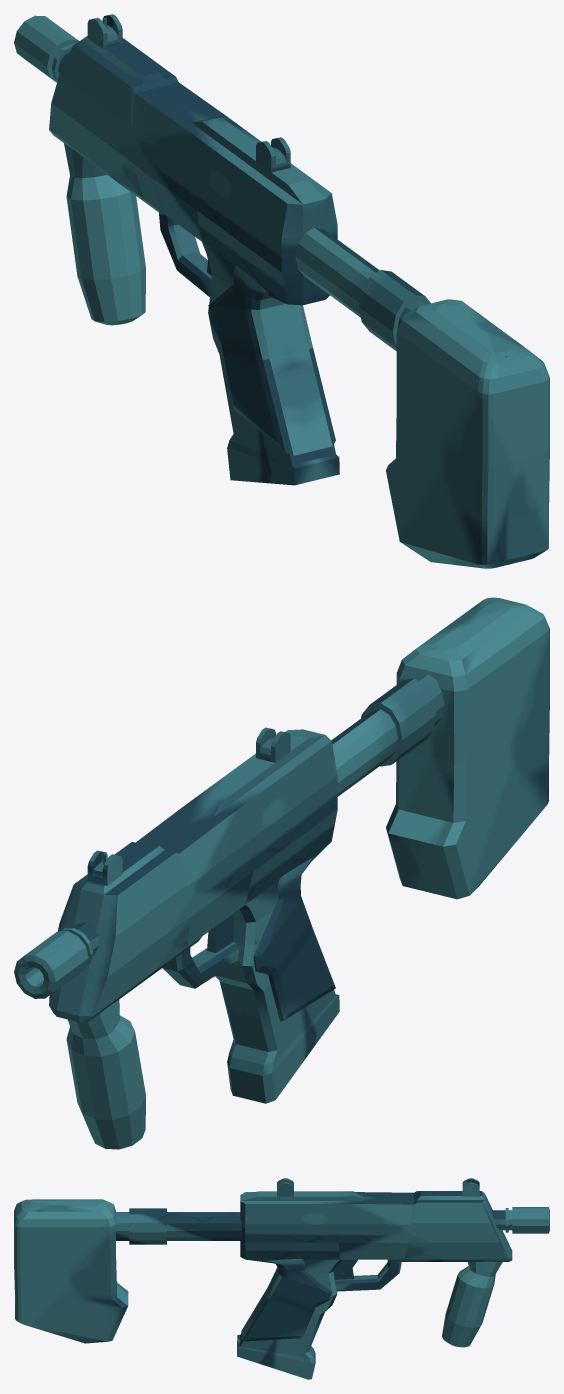
The model's file is smg_01.gltf.
3 renders of one model, top to bottom at view 1: azimuth 30°, elevation 25°; view 2: azimuth 150°, elevation 25°; view 3: azimuth 270°, elevation 25°, orthographic. The views are drawn at different scales.
Parts seen in each view (by area): view 1: GunBody, Stock, Grip, Barrel; view 2: GunBody, Stock, Grip, Barrel, Trigger; view 3: GunBody, Stock, Grip, Barrel, Trigger.
Part boxes in pixels (<box>): GunBody: <box>49,14,339,485</box>; Stock: <box>295,227,549,568</box>; Grip: <box>64,143,145,325</box>; Barrel: <box>14,15,78,82</box>; GunBody: <box>49,727,339,1103</box>; Stock: <box>331,597,549,899</box>; Grip: <box>66,1000,145,1149</box>; Barrel: <box>14,923,98,998</box>; Trigger: <box>207,915,234,952</box>; GunBody: <box>237,1178,512,1379</box>; Stock: <box>14,1199,241,1343</box>; Grip: <box>442,1261,502,1347</box>; Barrel: <box>492,1207,549,1233</box>; Trigger: <box>333,1259,357,1279</box>.
Bounding box in the file's own units: 0.2207 × 1.06 × 2.64.
Materials: 1 (1 with a texture image).
